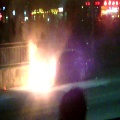fire: (21, 41, 56, 94)
